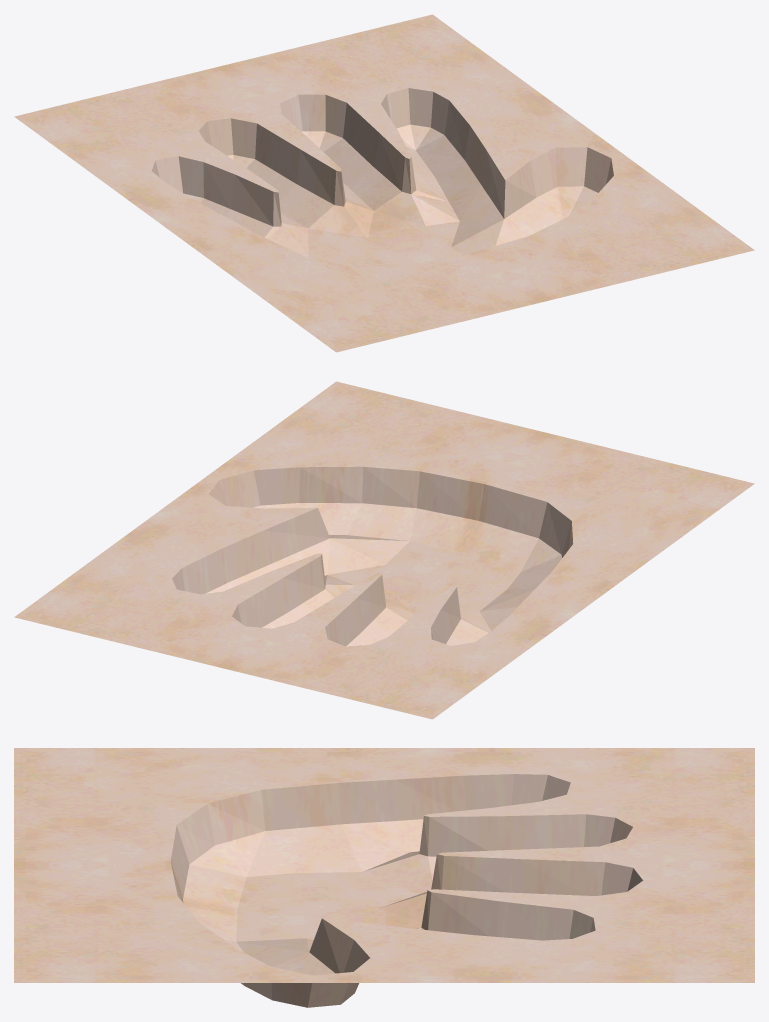
Rendered from sandbombbasehand.dae.
3 views of the same model, one above another, from view 1: azimuth 30°, elevation 25°; view 2: azimuth 150°, elevation 25°; view 3: azimuth 270°, elevation 25° (orthographic). The views are drawn at different scales.
Visible parts, largest first — view 1: m0; view 2: m0; view 3: m0.
Boxes of the visible parts, x1=… form: m0: x1=14, y1=14, x2=754, y2=352; m0: x1=14, y1=381, x2=754, y2=719; m0: x1=14, y1=748, x2=754, y2=1007.
Bounding box in the file's own units: 1200 × 129 × 1600.
Materials: 1 (1 with a texture image).
